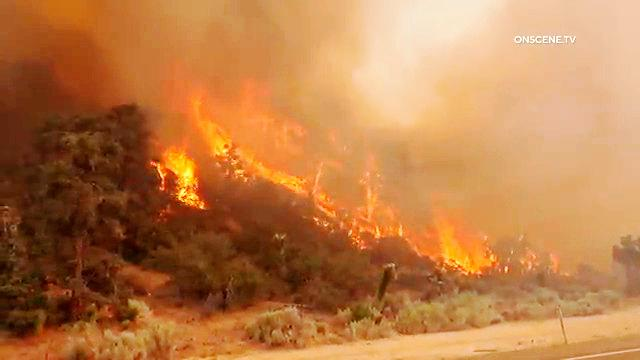fire: (239, 156, 382, 256), (384, 221, 523, 292), (120, 120, 202, 215), (187, 99, 251, 182)
smoke: (380, 67, 634, 205), (129, 9, 490, 88)
